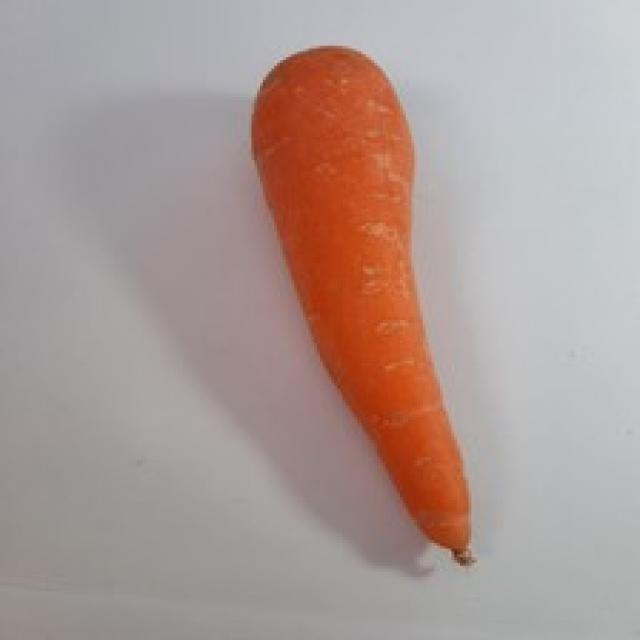carrot: (252, 44, 476, 568)
